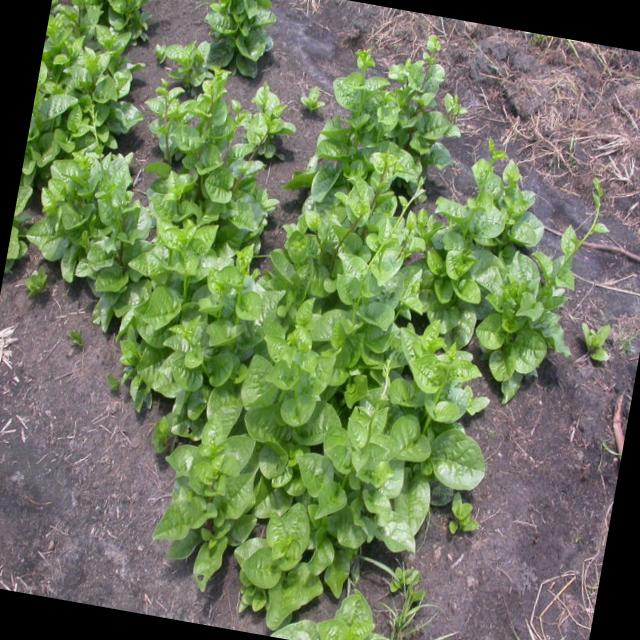Medicinal-Basale: (113, 283, 481, 640), (388, 119, 608, 436), (272, 12, 480, 334), (121, 62, 283, 419), (22, 0, 190, 309)
